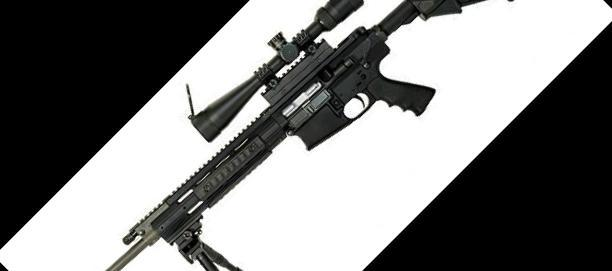larga: (106, 0, 516, 271)
